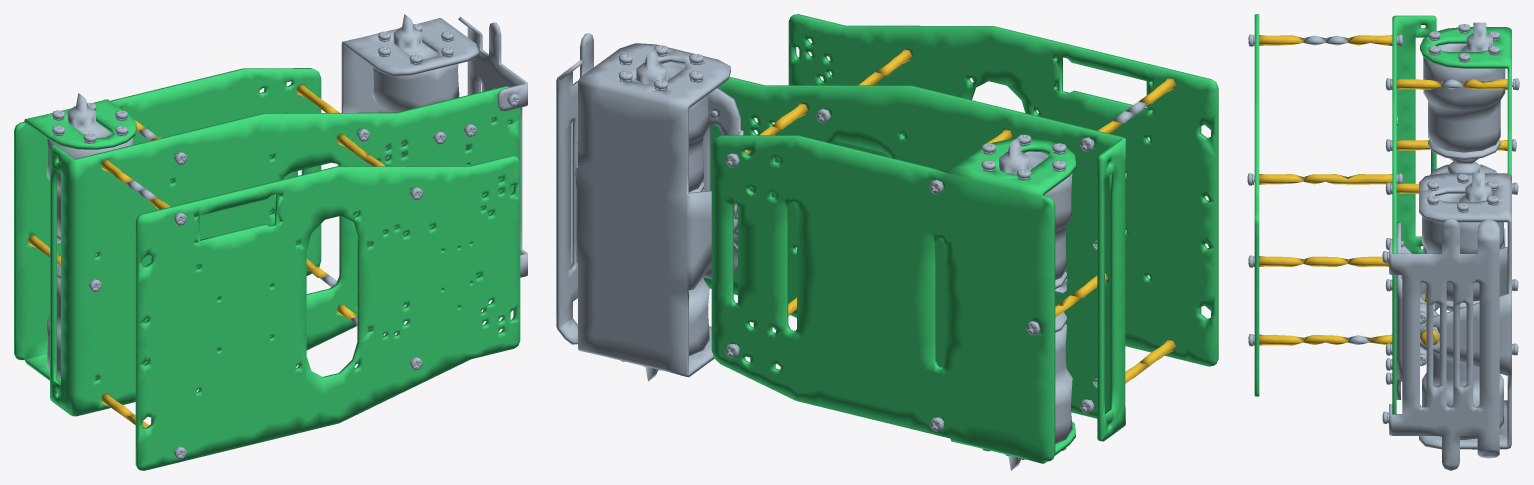
The model's file is rosmaster_base.obj.
3 views of the same model, side by side, from view 1: azimuth 30°, elevation 25°; view 2: azimuth 150°, elevation 25°; view 3: azimuth 270°, elevation 25° (orthographic). The views are drawn at different scales.
Visible parts, largest first — view 1: base__Chassis_Green__02, base__Chassis_Green__00, base__Chassis_Green__01, base__Motor_Steel__02, base__Motor_Steel__01, base__Motor_Steel__00, base__Chassis_Green__03, base__Standoff_Brass__00; view 2: base__Chassis_Green__00, base__Motor_Steel__02, base__Chassis_Green__02, base__Chassis_Green__01, base__Chassis_Green__03, base__Motor_Steel__01, base__Motor_Steel__00, base__Standoff_Brass__00; view 3: base__Motor_Steel__01, base__Motor_Steel__02, base__Chassis_Green__00, base__Motor_Steel__00, base__Standoff_Brass__00, base__Chassis_Green__02, base__Standoff_Brass__01, base__Motor_Steel__03.
Boxes of the visible parts, left/top/right/bottom form: base__Chassis_Green__02: left=135, top=155, right=520, bottom=470; base__Chassis_Green__00: left=14, top=68, right=520, bottom=416; base__Chassis_Green__01: left=55, top=106, right=520, bottom=461; base__Motor_Steel__02: left=88, top=14, right=478, bottom=459; base__Motor_Steel__01: left=378, top=16, right=527, bottom=304; base__Motor_Steel__00: left=46, top=93, right=476, bottom=379; base__Chassis_Green__03: left=138, top=161, right=519, bottom=449; base__Standoff_Brass__00: left=101, top=84, right=385, bottom=427; base__Chassis_Green__00: left=711, top=76, right=1125, bottom=463; base__Motor_Steel__02: left=575, top=43, right=1149, bottom=431; base__Chassis_Green__02: left=789, top=14, right=1218, bottom=365; base__Chassis_Green__01: left=703, top=79, right=1120, bottom=428; base__Chassis_Green__03: left=788, top=16, right=1215, bottom=366; base__Motor_Steel__01: left=556, top=33, right=753, bottom=381; base__Motor_Steel__00: left=620, top=134, right=1072, bottom=470; base__Standoff_Brass__00: left=745, top=49, right=1175, bottom=383; base__Motor_Steel__01: left=1385, top=181, right=1503, bottom=470; base__Motor_Steel__02: left=1248, top=34, right=1518, bottom=449; base__Chassis_Green__00: left=1392, top=15, right=1511, bottom=414; base__Motor_Steel__00: left=1348, top=22, right=1505, bottom=384; base__Standoff_Brass__00: left=1259, top=35, right=1507, bottom=345; base__Chassis_Green__02: left=1254, top=14, right=1259, bottom=396; base__Standoff_Brass__01: left=1349, top=35, right=1507, bottom=150; base__Motor_Steel__03: left=1247, top=34, right=1519, bottom=423.
Size of the model in its own units: 0.2275 by 0.138 by 0.1227.
